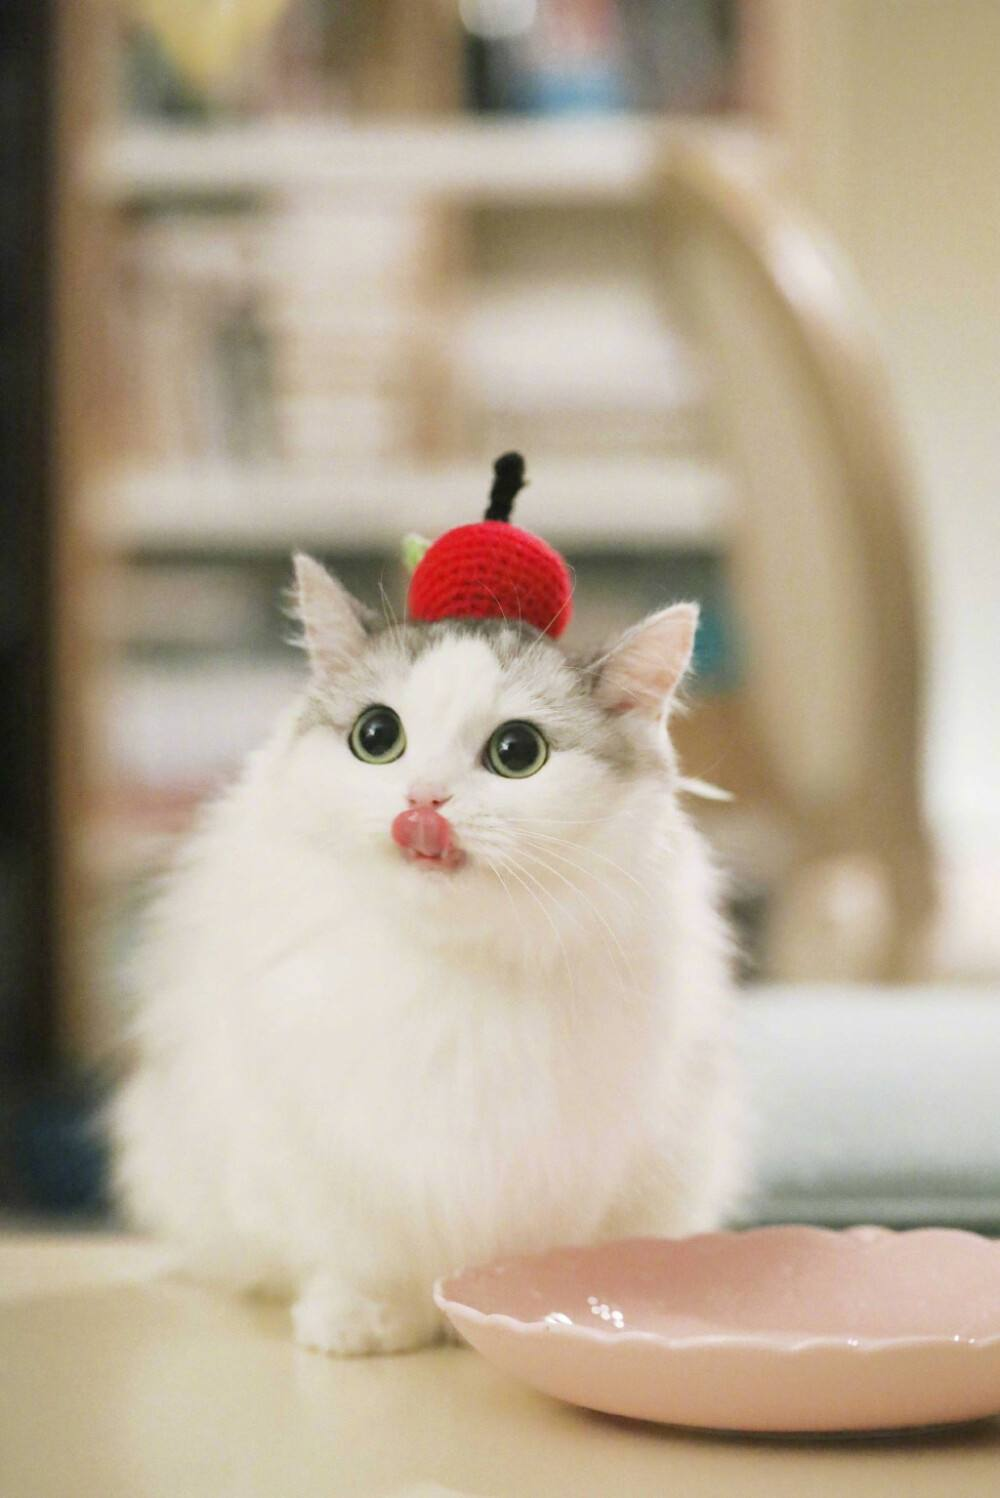cat: (96, 448, 748, 1357)
